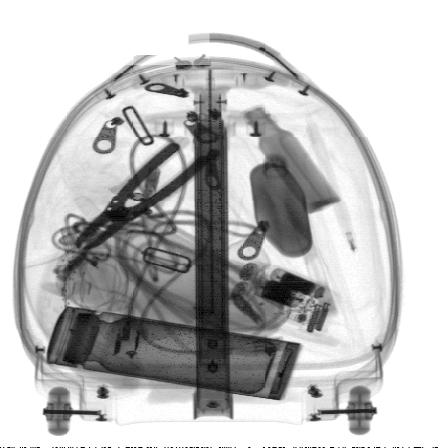Pliers: (76, 142, 210, 250)
